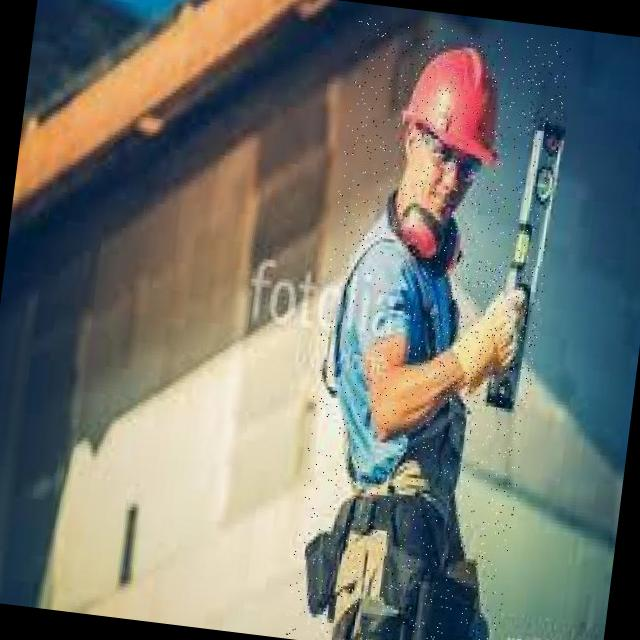gloves: (436, 272, 558, 398)
helmet: (390, 31, 515, 172)
no-vest: (335, 244, 493, 494)
